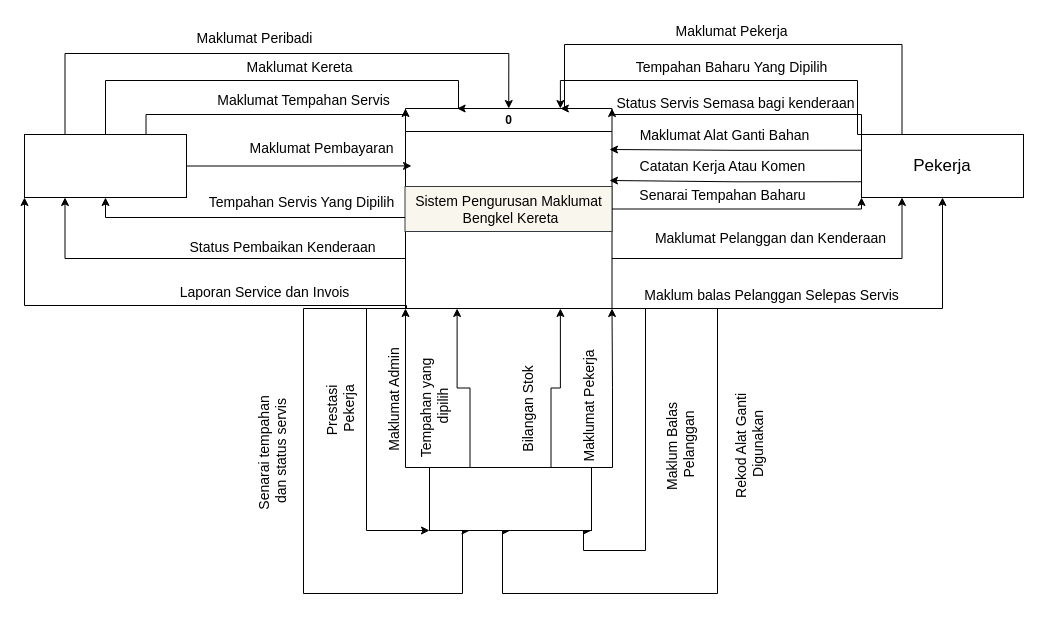
The diagram is 1041 pixels wide and 619 high, and some of its shapes have lost their labels. The box of each missing label's shape, as (x1, y1, x2, y2) in pixels:
Admin: (428, 466, 592, 530)
Pelanggan: (24, 134, 186, 198)
